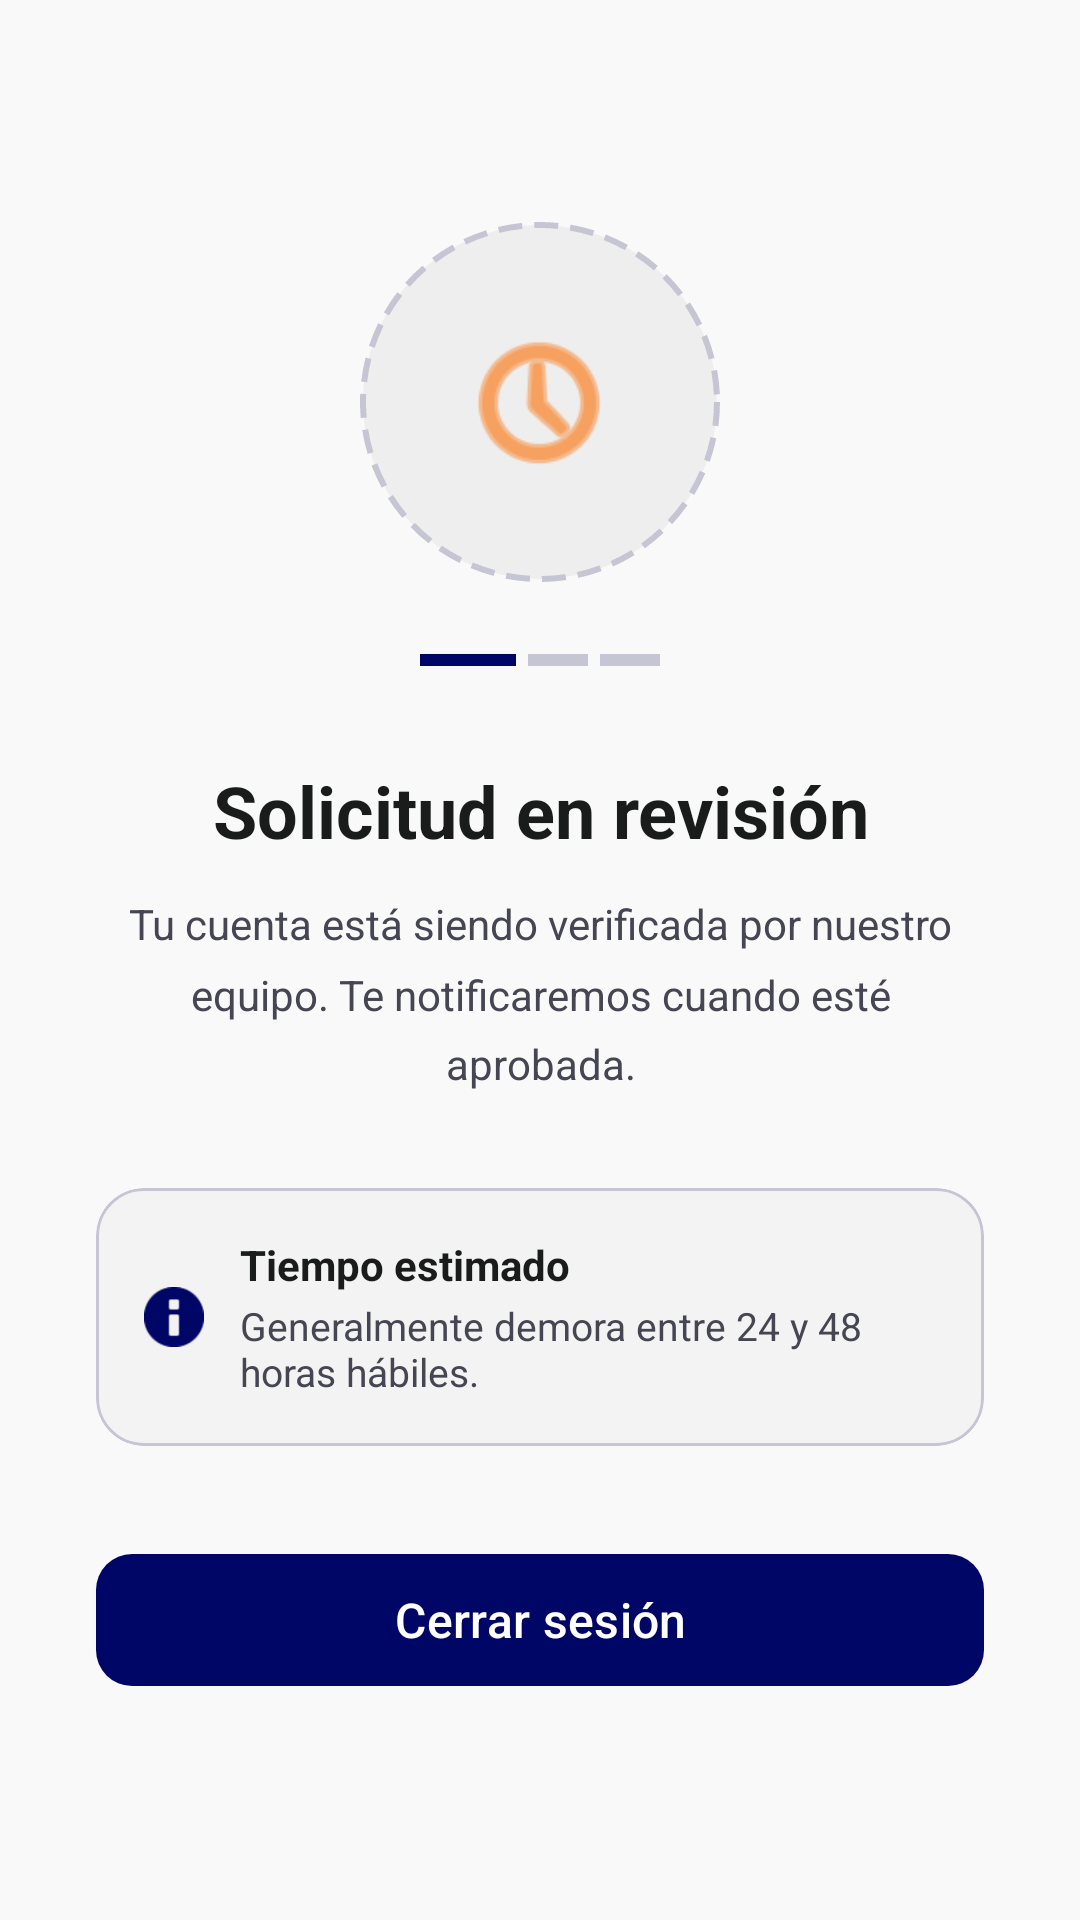

Icon bounding boxes for this 1080 x 1920 phone screenshot, format box(x1, y1, x2, y2):
Info: box(144, 1287, 204, 1347)
Reloj: box(478, 342, 600, 464)
